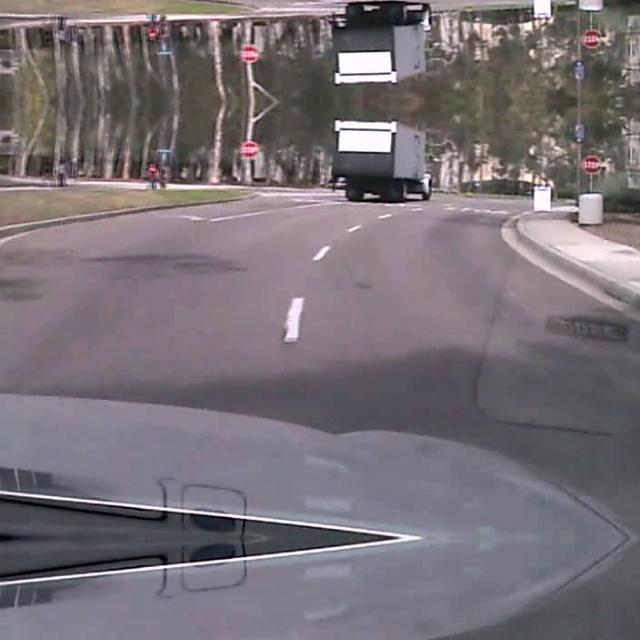stop: (580, 152, 600, 172), (580, 30, 600, 50), (238, 138, 258, 156), (238, 46, 258, 64)
